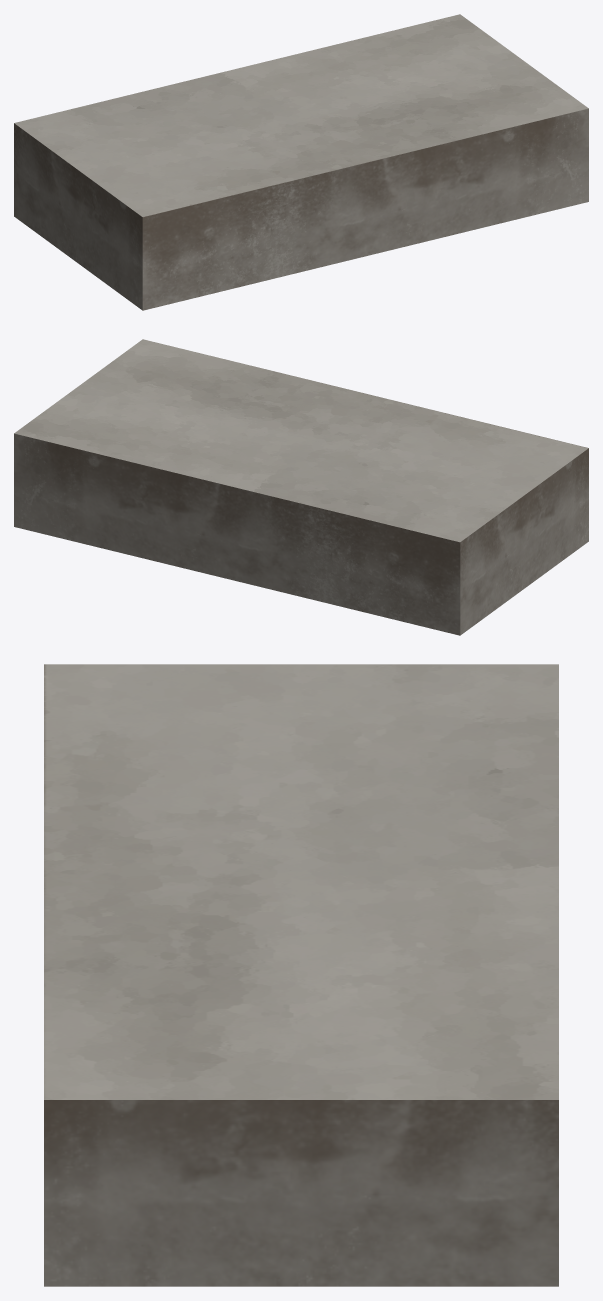
The model's file is SM_ENV_K1_SLAB_STRAIGHT_2X1_01.fbx.
3 renders of one model, top to bottom at view 1: azimuth 30°, elevation 25°; view 2: azimuth 150°, elevation 25°; view 3: azimuth 270°, elevation 25°, orthographic. The views are drawn at different scales.
Visible parts, largest first — view 1: SM_ENV_K1_SLAB_STRAIGHT_2X1_01; view 2: SM_ENV_K1_SLAB_STRAIGHT_2X1_01; view 3: SM_ENV_K1_SLAB_STRAIGHT_2X1_01.
Part boxes in pixels (<box>): SM_ENV_K1_SLAB_STRAIGHT_2X1_01: <box>14,14,588,310</box>; SM_ENV_K1_SLAB_STRAIGHT_2X1_01: <box>14,339,588,635</box>; SM_ENV_K1_SLAB_STRAIGHT_2X1_01: <box>44,664,558,1286</box>.
Size of the model in its own units: 2 by 0.4 by 1.
